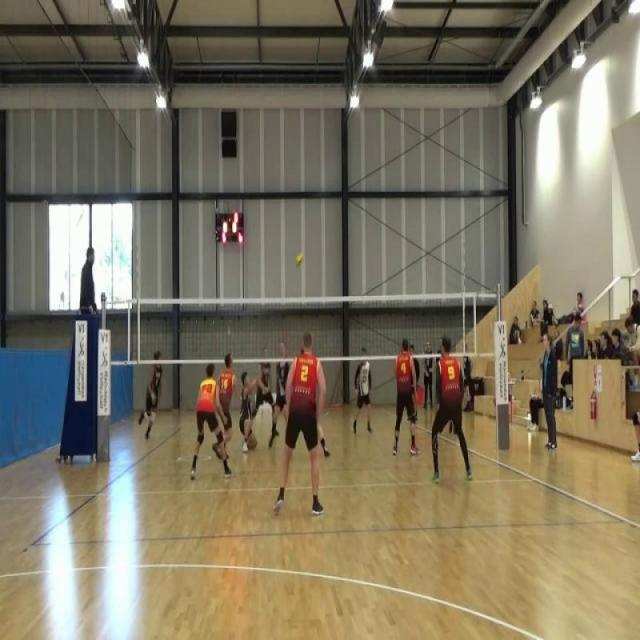volleyball: (294, 250, 304, 270)
